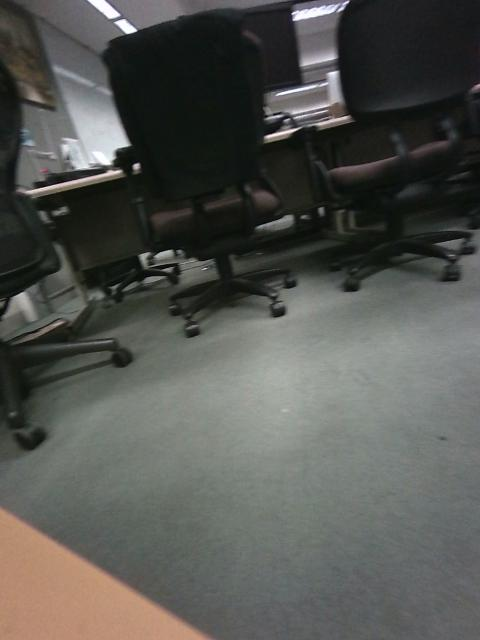block: (123, 317, 164, 347)
